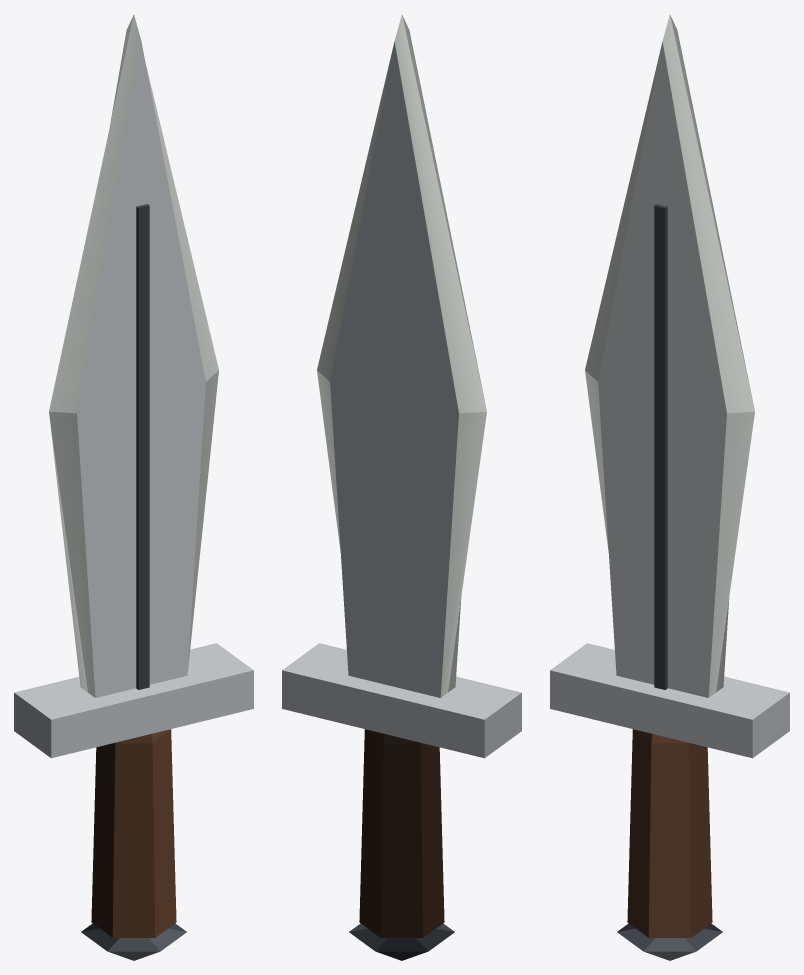
Rendered from ammo_knife.gltf.
The picture shows the model from 3 angles, left to right: view 1: azimuth 30°, elevation 25°; view 2: azimuth 150°, elevation 25°; view 3: azimuth 330°, elevation 25°; orthographic projection.
Visible parts, largest first — view 1: ammo_knife; view 2: ammo_knife; view 3: ammo_knife.
Boxes of the visible parts, <box> form: ammo_knife: <box>14,14,253,960</box>; ammo_knife: <box>282,14,521,960</box>; ammo_knife: <box>550,14,789,960</box>.
Size of the model in its own units: 0.22 by 0.9824 by 0.1.
Materials: 1 (1 with a texture image).
